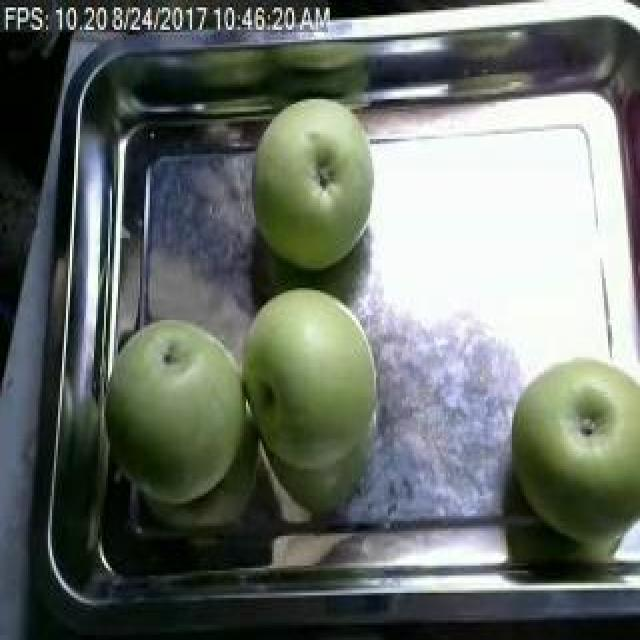Rotten Apple: (242, 285, 386, 474), (110, 311, 250, 500), (502, 354, 640, 532), (249, 93, 383, 274)
